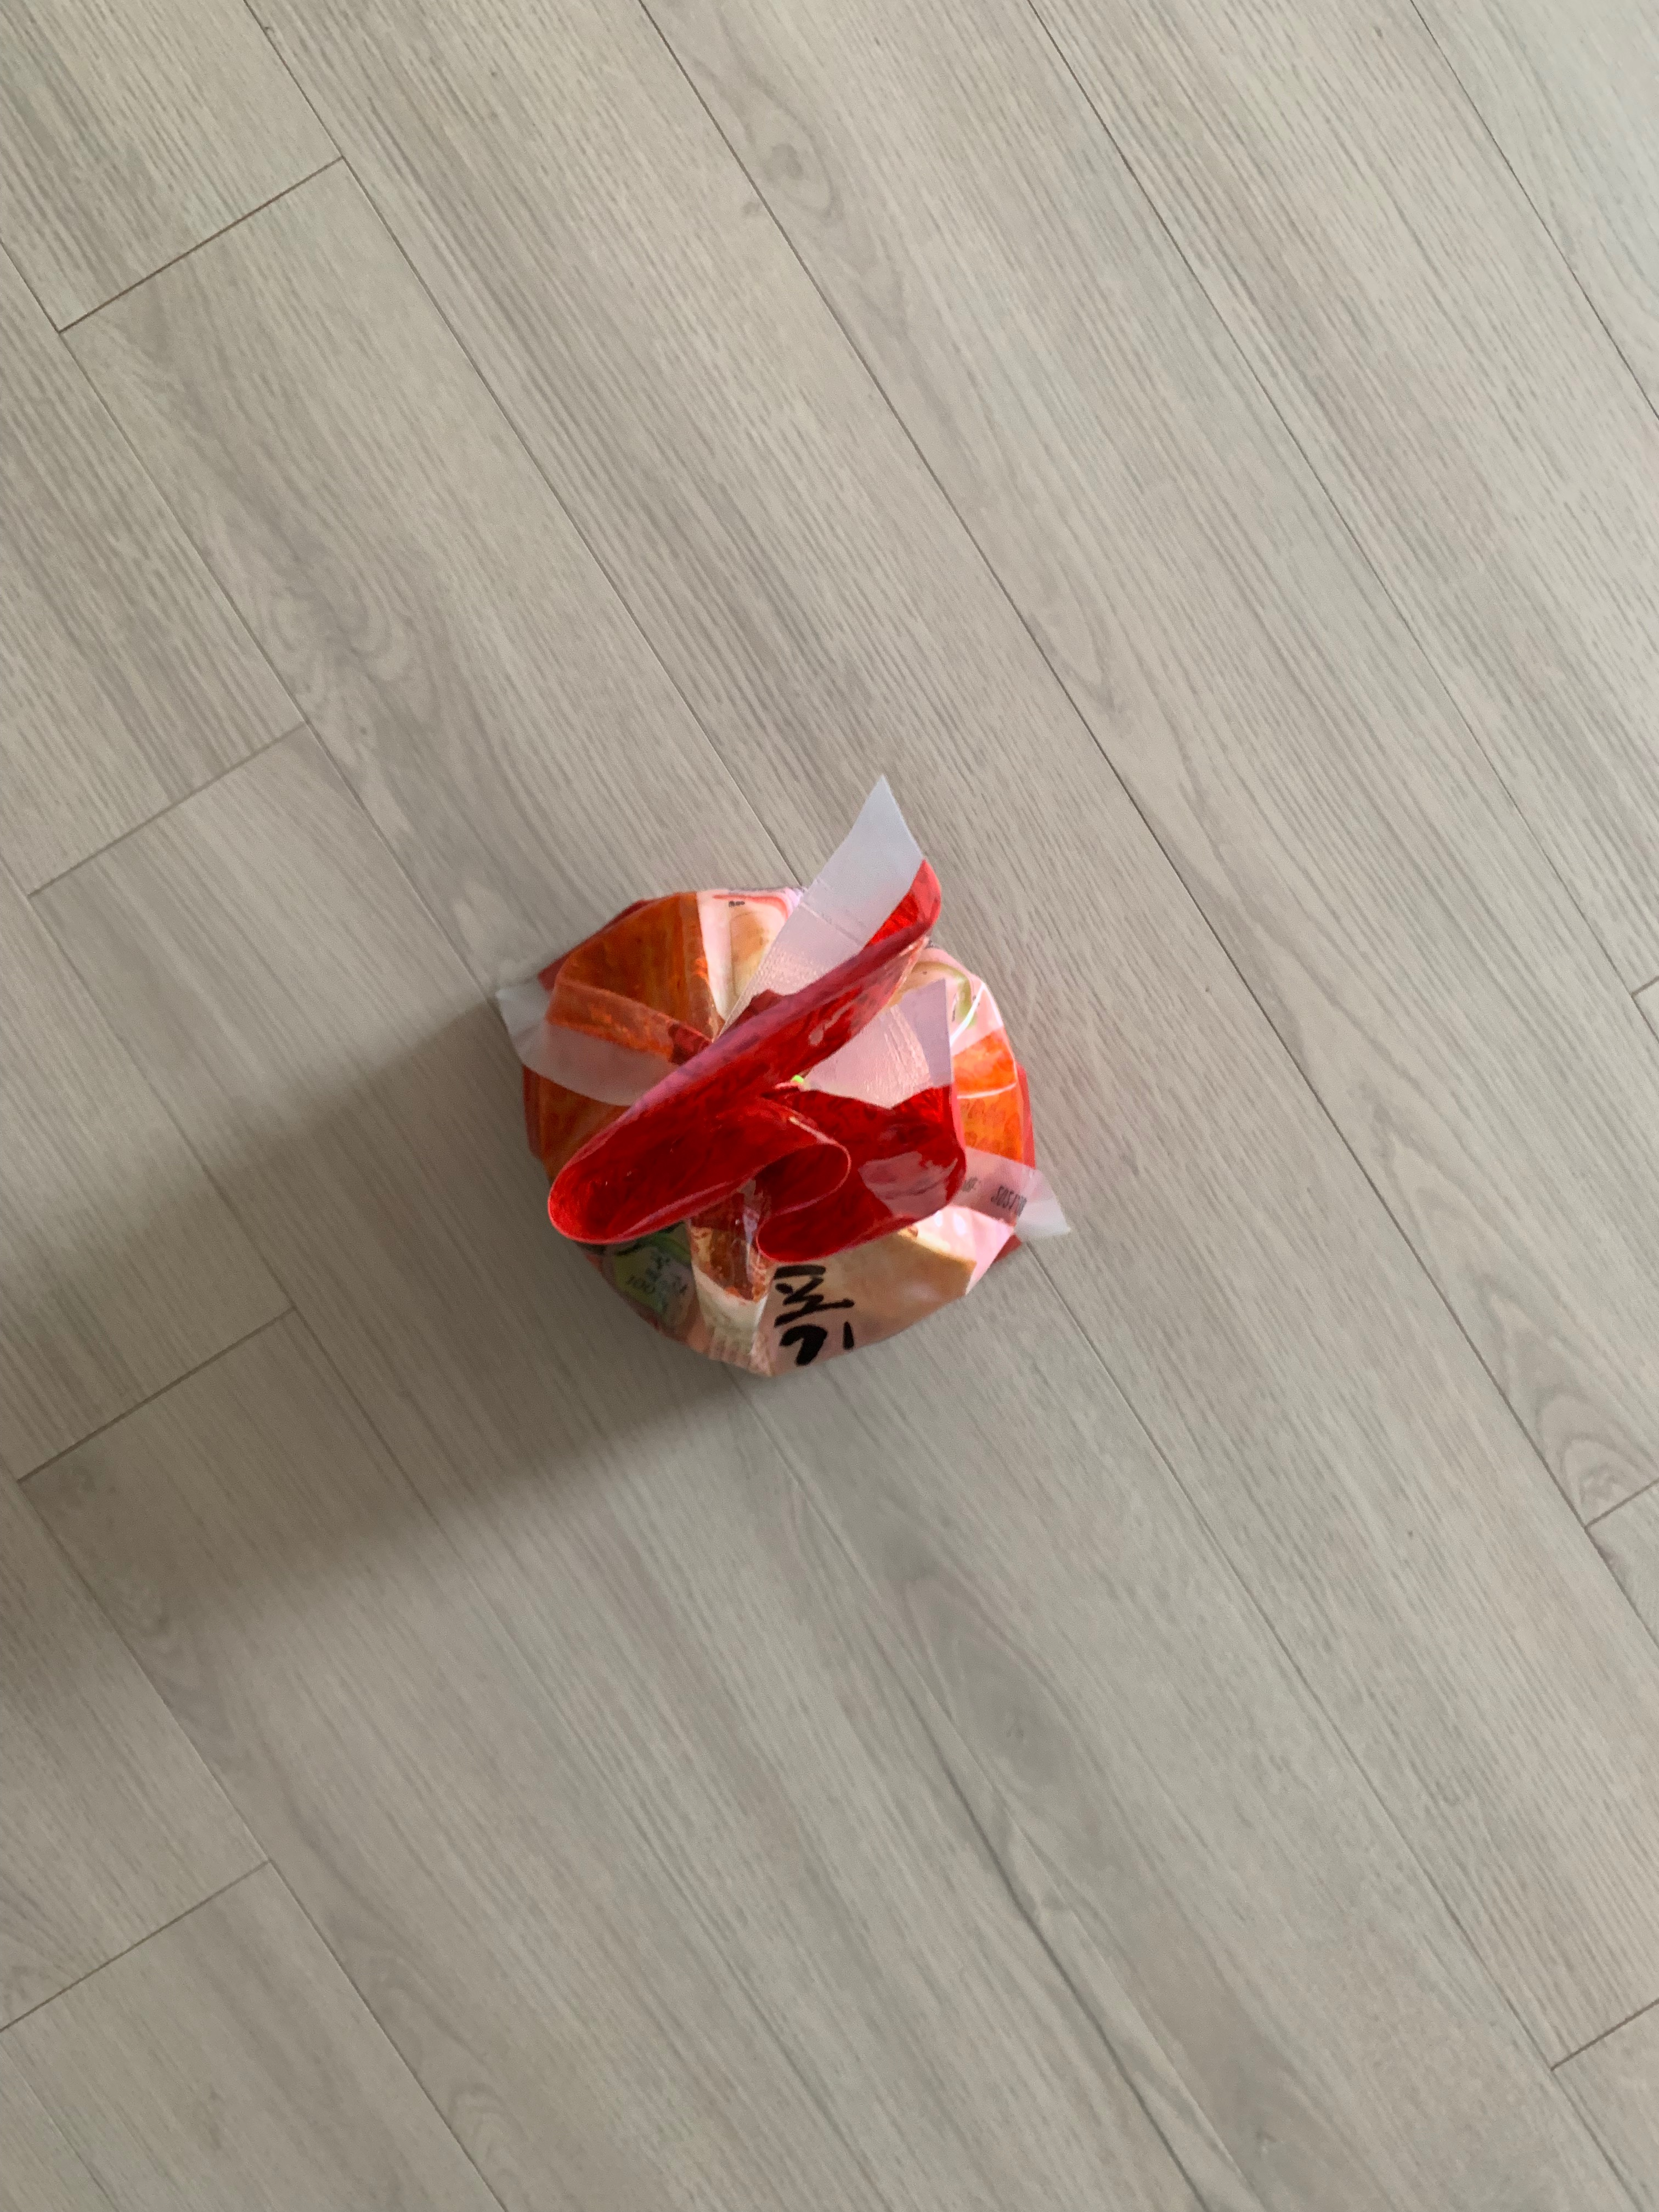kimchi: (519, 876, 1039, 1367)
